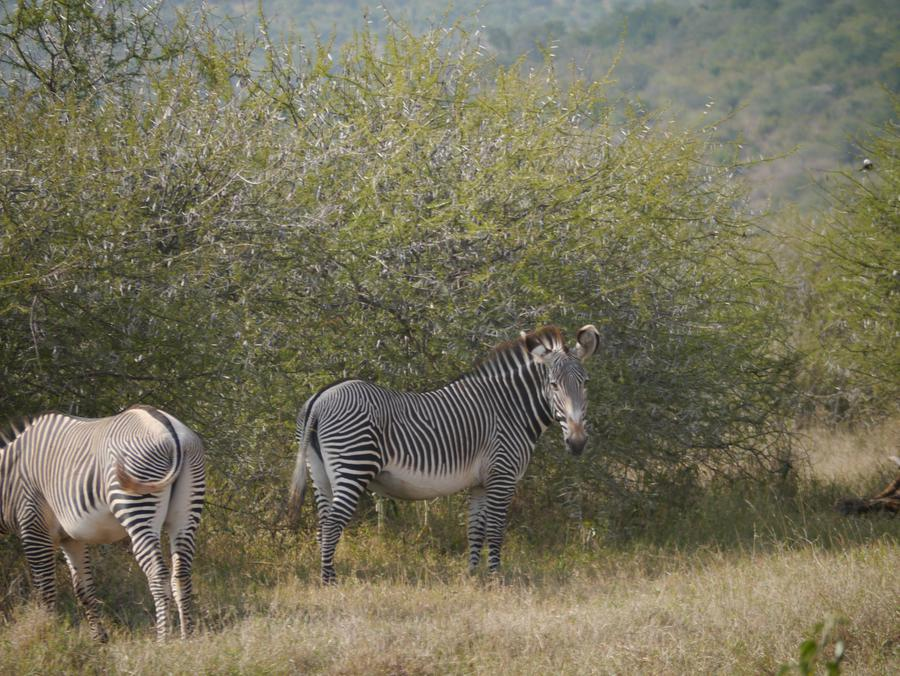zebra_grevys: (308, 378, 519, 487)
